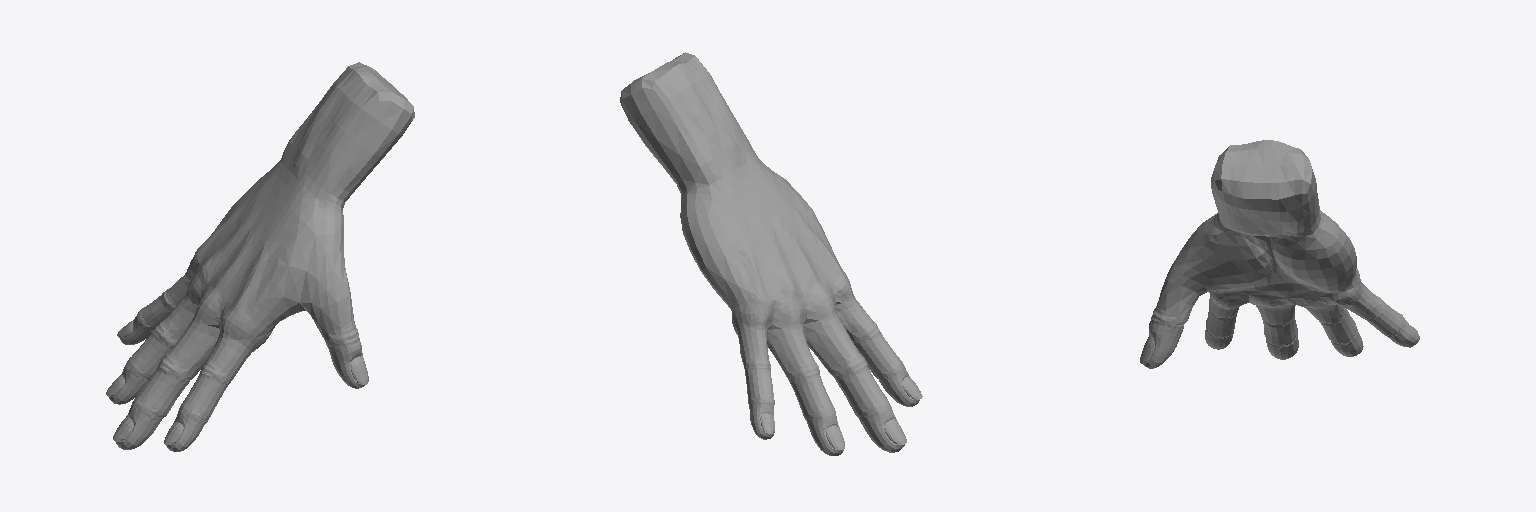
The model's file is hand.obj.
3 views of the same model, side by side, from view 1: azimuth 30°, elevation 25°; view 2: azimuth 150°, elevation 25°; view 3: azimuth 270°, elevation 25° (orthographic).
Parts seen in each view (by area): view 1: ZBrushPolyMesh3D; view 2: ZBrushPolyMesh3D; view 3: ZBrushPolyMesh3D.
Part boxes in pixels (left/top/right/bottom): ZBrushPolyMesh3D: left=106, top=62, right=414, bottom=451; ZBrushPolyMesh3D: left=620, top=52, right=922, bottom=455; ZBrushPolyMesh3D: left=1140, top=140, right=1419, bottom=368.
Bounding box in the file's own units: 3.86 × 4.29 × 3.34.